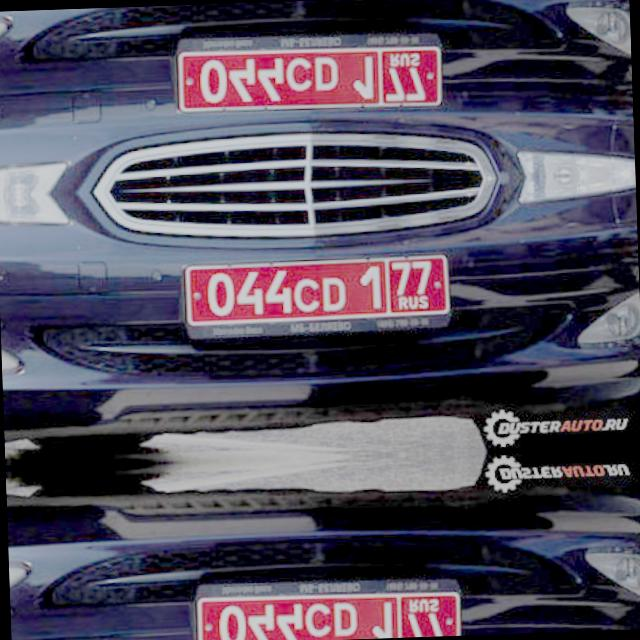diplomatic: (180, 250, 456, 340), (172, 26, 448, 116), (191, 571, 466, 640)
